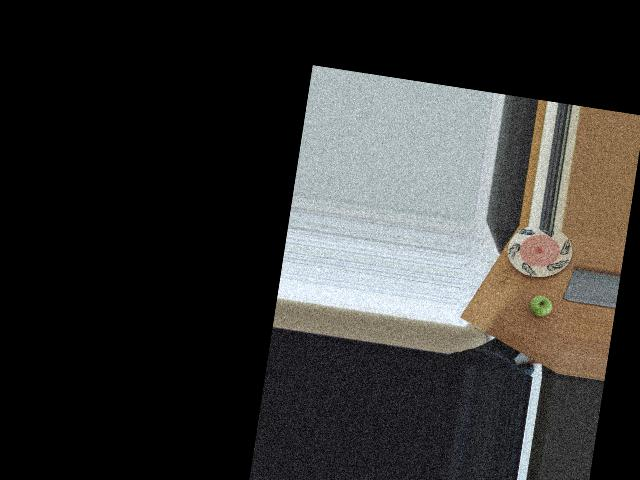apple: (524, 292, 553, 322)
